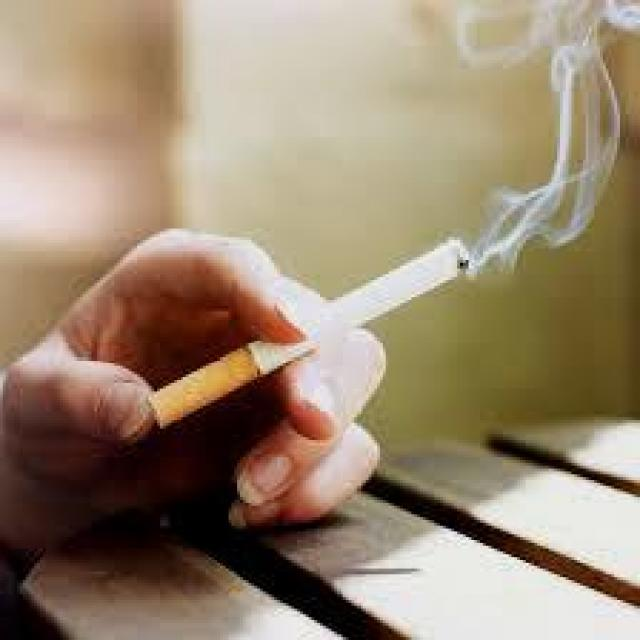smoke: (146, 231, 477, 426)
